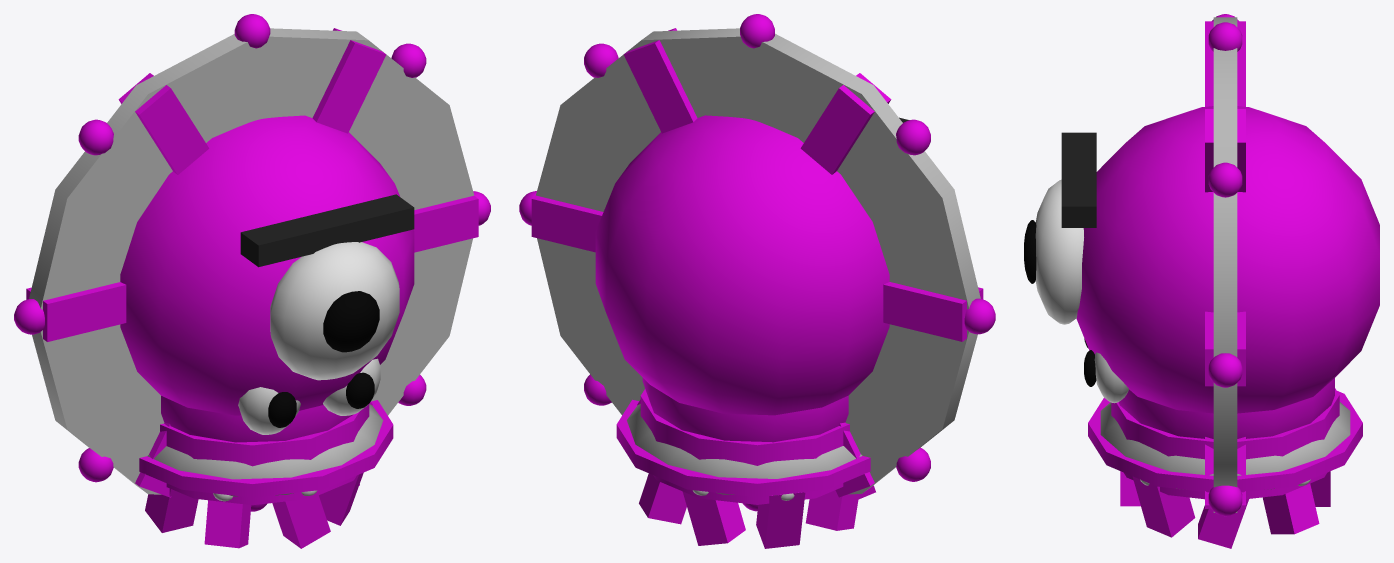
Rendered from sentinels.glb.
3 views of the same model, side by side, from view 1: azimuth 30°, elevation 25°; view 2: azimuth 150°, elevation 25°; view 3: azimuth 270°, elevation 25° (orthographic). The views are drawn at different scales.
Visible parts, largest first — view 1: warden.body, warden.ring, hunter.body, ufo.body, hunter.eyes; view 2: warden.body, warden.ring, hunter.body, ufo.body; view 3: warden.body, hunter.body, warden.ring, ufo.body, hunter.eyes.
Boxes of the visible parts, left/top/right/bottom form: warden.body: left=26, top=28, right=478, bottom=497; warden.ring: left=14, top=14, right=490, bottom=511; hunter.body: left=145, top=396, right=369, bottom=548; ufo.body: left=139, top=400, right=393, bottom=501; hunter.eyes: left=238, top=358, right=380, bottom=434; warden.body: left=531, top=28, right=983, bottom=497; warden.ring: left=519, top=14, right=995, bottom=511; hunter.body: left=639, top=378, right=875, bottom=548; ufo.body: left=616, top=399, right=870, bottom=500; warden.body: left=1024, top=21, right=1379, bottom=508; hunter.body: left=1111, top=378, right=1339, bottom=548; warden.ring: left=1208, top=14, right=1242, bottom=516; ufo.body: left=1088, top=391, right=1362, bottom=492; hunter.eyes: left=1084, top=338, right=1128, bottom=403.
Bounding box in the file's own units: 1.82 × 1.82 × 1.22.
